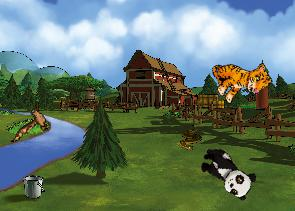eagle: (10, 96, 56, 150)
panda: (193, 142, 260, 203)
tiger: (206, 45, 274, 110)
